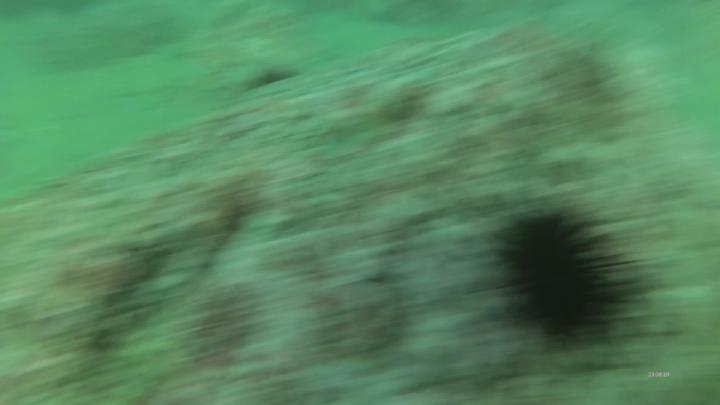echinus: (487, 200, 642, 356)
